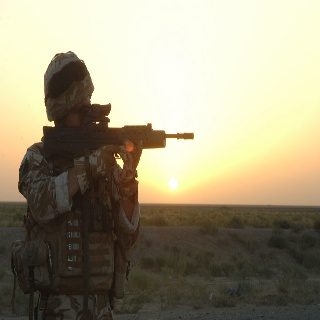rifle: (41, 103, 196, 160)
